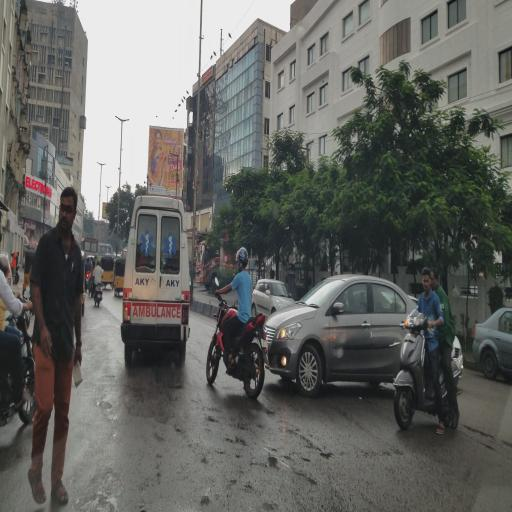street_light_0: (109, 111, 122, 129), (122, 114, 134, 132), (93, 155, 103, 171), (100, 155, 110, 170)
